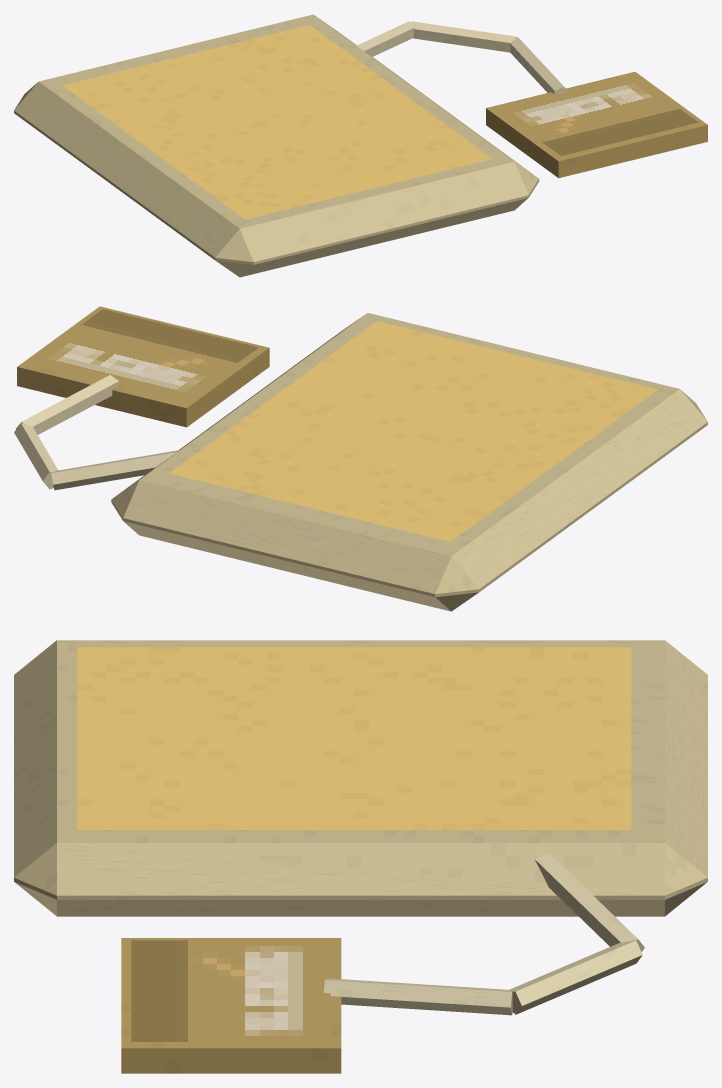
The model's file is tea_bag_chamomile.glb.
3 views of the same model, one above another, from view 1: azimuth 30°, elevation 25°; view 2: azimuth 150°, elevation 25°; view 3: azimuth 270°, elevation 25° (orthographic). The views are drawn at different scales.
Visible parts, largest first — view 1: block_tea fines visible through paper, block_porous paper sachet, block_printed tag, block_tag, block_cotton string 1, block_cotton string 2, block_cotton string 0; view 2: block_tea fines visible through paper, block_porous paper sachet, block_printed tag, block_tag, block_cotton string 0, block_cotton string 2, block_cotton string 1; view 3: block_tea fines visible through paper, block_porous paper sachet, block_printed tag, block_tag, block_cotton string 2, block_cotton string 1, block_cotton string 0.
Boxes of the visible parts, box(x1,y1,x2,y2) form: block_tea fines visible through paper: box(62, 25, 492, 219); block_porous paper sachet: box(14, 14, 539, 277); block_printed tag: box(495, 74, 698, 155); block_tag: box(486, 71, 707, 178); block_cotton string 1: box(411, 21, 516, 52); block_cotton string 2: box(510, 37, 568, 94); block_cotton string 0: box(356, 21, 414, 56); block_tea fines visible through paper: box(169, 321, 657, 541); block_porous paper sachet: box(111, 313, 707, 611); block_printed tag: box(28, 309, 258, 402); block_tag: box(17, 306, 269, 427); block_cotton string 0: box(51, 450, 179, 490); block_cotton string 2: box(16, 375, 118, 434); block_cotton string 1: box(14, 423, 58, 489); block_tea fines visible through paper: box(77, 647, 631, 829); block_porous paper sachet: box(14, 640, 707, 916); block_printed tag: box(131, 940, 330, 1041); block_tag: box(121, 938, 341, 1073); block_cotton string 2: box(323, 978, 512, 1015); block_cotton string 1: box(509, 940, 642, 1014); block_cotton string 0: box(534, 853, 644, 951).
Size of the model in its own units: 0.0411 by 0.00383 by 0.0318.
Materials: 1 (1 with a texture image).
